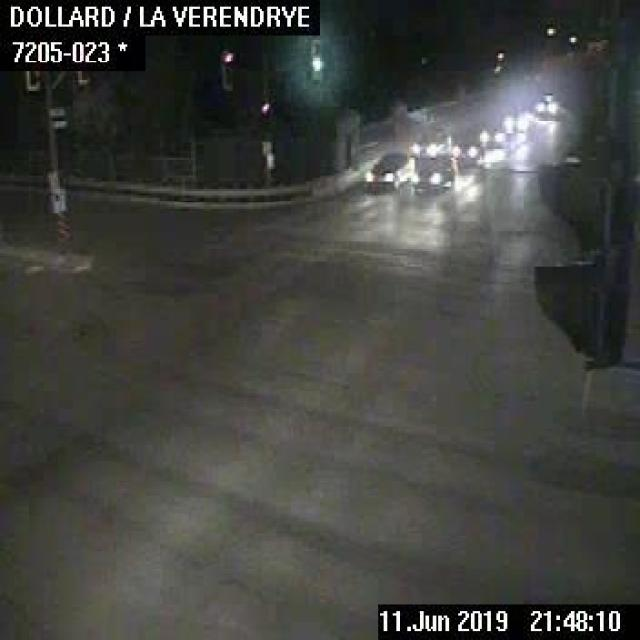vehicle: (364, 151, 414, 189), (414, 157, 456, 192), (411, 127, 450, 155), (446, 136, 482, 164), (476, 122, 507, 145), (500, 110, 530, 132), (533, 94, 562, 114)
